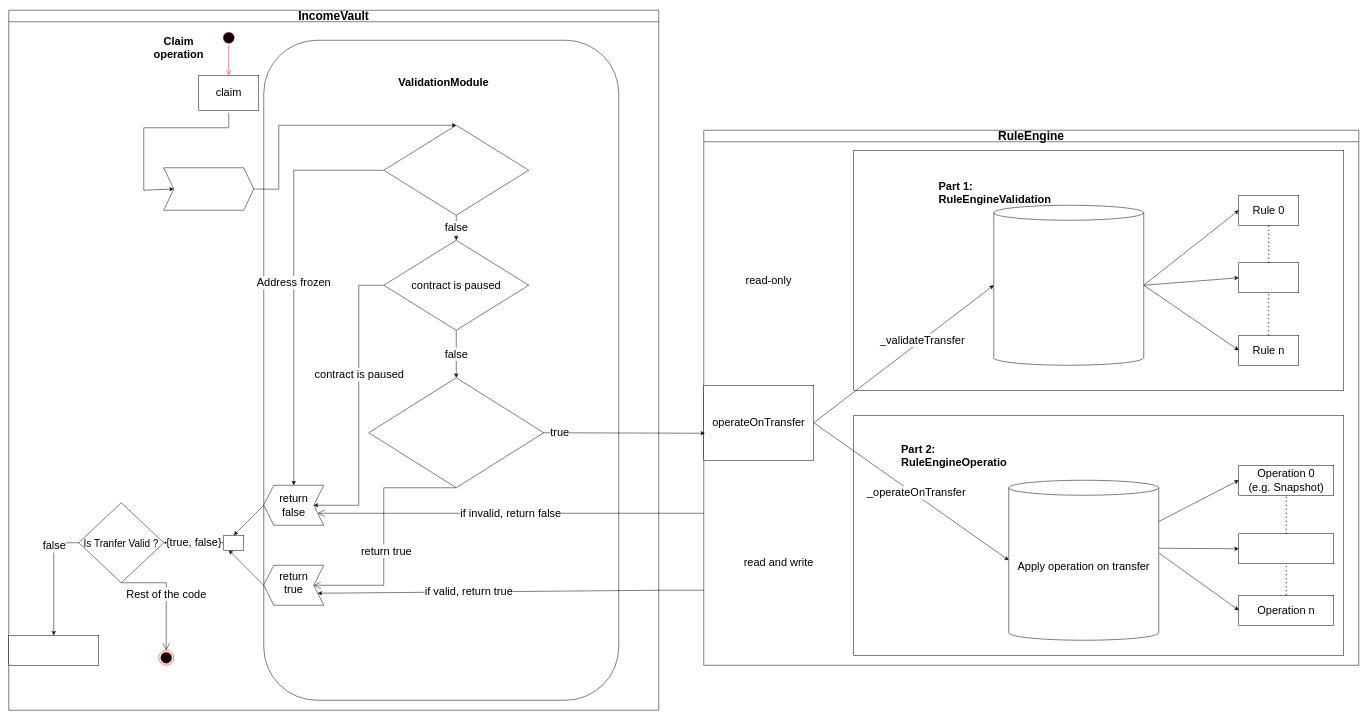
Some shapes in this 1368 by 719 pixel diagram are drawn without their labels. The shapes that lost their labels are listed below. From the top down, each one's centre as x and y in pixels, then its label:
(x=208, y=188): Check Transfer
(x=456, y=170): isFrozen(From) || isFrozen(to)
(x=1068, y=285): check rule (whitelist, sanctionList)
(x=1268, y=277): Rule 1
(x=456, y=432): RuleEngine != zero address ?
(x=1286, y=548): Operation 1
(x=53, y=650): Revert Invalid Transfer
